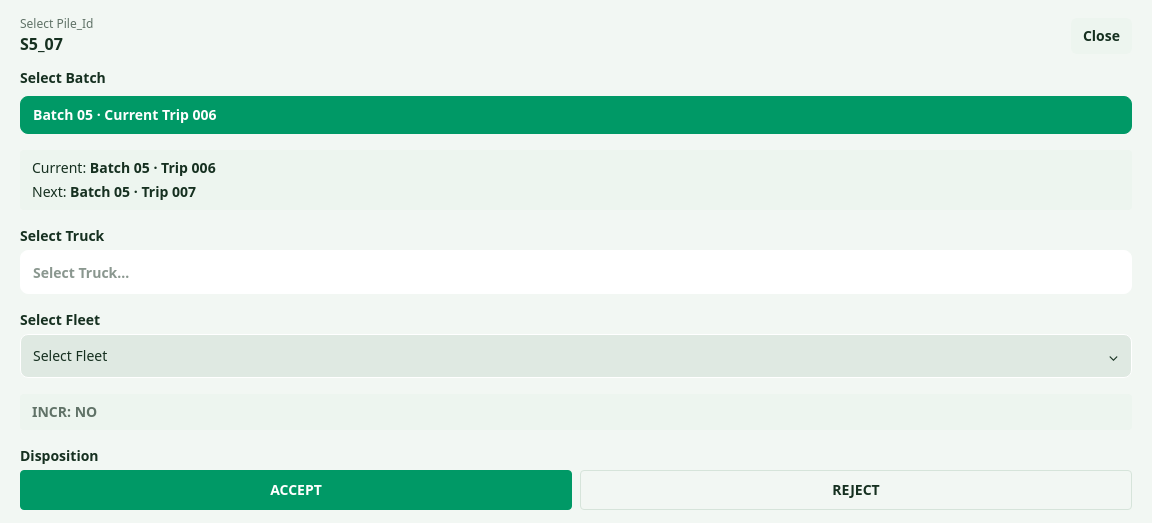
Test: ProductionRecordEntry truck-first selection flow › keeps the selected Pile, auto-selects one Batch, then selects Truck before Fleet
Expected: the text "S5_07" is shown, [20, 33, 63, 55]
Expected: the text "Select Batch" is shown, [20, 68, 106, 87]
Type "T1" into the field named "Search Truck".
click(576, 272); type("T1")  # box [20, 250, 1132, 294]
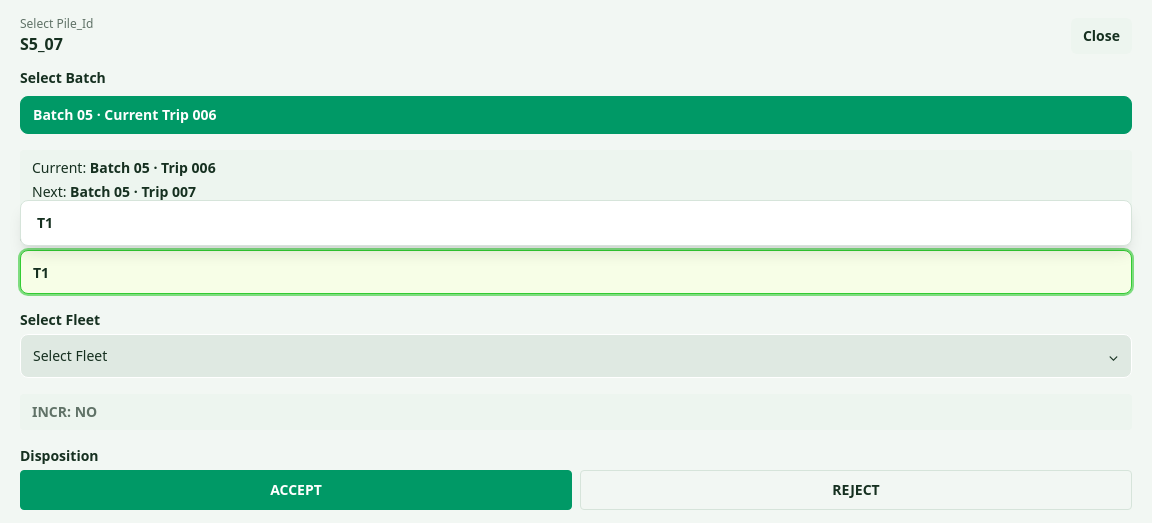
Click the option "T1".
click(45, 222)  # box [25, 205, 1127, 241]
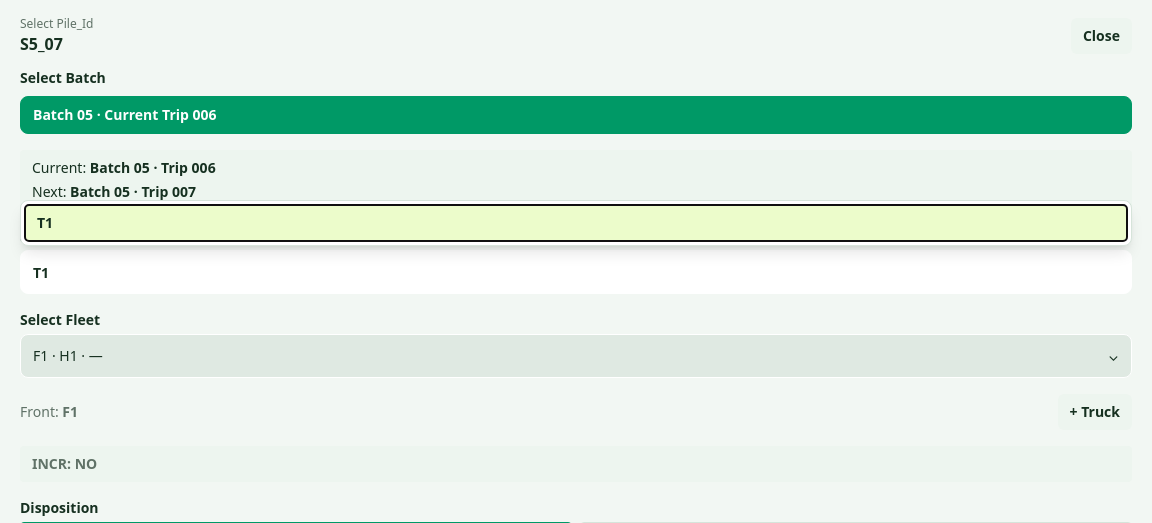
Now the button named "Select Fleet" shows "F1", box [20, 334, 1132, 378]
Now the button "+ Truck" is shown, box [1058, 394, 1132, 430]
